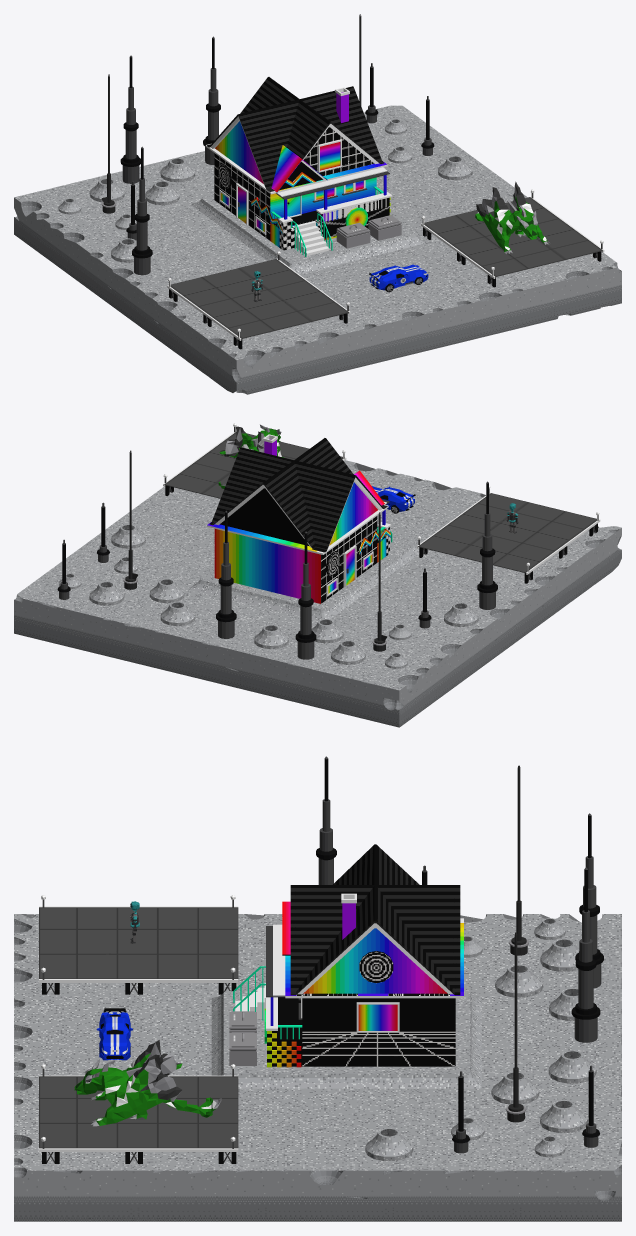
The picture shows the model from 3 angles, top to bottom: view 1: azimuth 30°, elevation 25°; view 2: azimuth 150°, elevation 25°; view 3: azimuth 270°, elevation 25°; orthographic projection. The views are drawn at different scales.
Parts seen in each view (by area): view 1: Cube.027, Cube.1320, Cube.025, Cube.026, Cube.028, ANIMAL_DRAGON, Cylinder.020, Cylinder.021, VEHICLES_RACING_CAR, Cylinder.017, Cube.029, Cube.030 (+4 smaller); view 2: Cube.027, Cube.1320, Cube.025, Cube.028, Cube.026, Cylinder.020, Cylinder.021, Cylinder.017, ANIMAL_DRAGON, VEHICLES_RACING_CAR, Cylinder.031, Cylinder.028 (+8 smaller); view 3: Cube.027, Cube.1320, Cube.025, Cube.026, Cube.028, ANIMAL_DRAGON, Cylinder.017, VEHICLES_RACING_CAR, Cylinder.020, Cylinder.021, Cylinder.033, Cylinder.031 (+10 smaller).
Part boxes in pixels (bbox=[...]): Cube.027: bbox=[14, 105, 621, 394]; Cube.1320: bbox=[205, 77, 392, 256]; Cube.025: bbox=[167, 251, 350, 349]; Cube.026: bbox=[421, 189, 604, 287]; Cube.028: bbox=[191, 195, 424, 274]; ANIMAL_DRAGON: bbox=[475, 181, 550, 253]; Cylinder.020: bbox=[120, 55, 140, 183]; Cylinder.021: bbox=[132, 146, 152, 275]; VEHICLES_RACING_CAR: bbox=[369, 264, 428, 292]; Cylinder.017: bbox=[203, 36, 220, 164]; Cube.029: bbox=[336, 222, 370, 248]; Cube.030: bbox=[368, 215, 401, 240]; Cube.027: bbox=[14, 460, 621, 727]; Cube.1320: bbox=[207, 434, 392, 603]; Cube.025: bbox=[417, 485, 600, 583]; Cube.028: bbox=[190, 538, 419, 620]; Cube.026: bbox=[163, 423, 346, 498]; Cylinder.020: bbox=[295, 531, 316, 659]; Cylinder.021: bbox=[477, 481, 497, 609]; Cylinder.017: bbox=[216, 510, 236, 638]; ANIMAL_DRAGON: bbox=[218, 424, 284, 488]; VEHICLES_RACING_CAR: bbox=[372, 486, 415, 513]; Cylinder.031: bbox=[89, 581, 124, 605]; Cylinder.028: bbox=[331, 640, 365, 664]; Cube.027: bbox=[14, 914, 621, 1221]; Cube.1320: bbox=[233, 844, 463, 1067]; Cube.025: bbox=[39, 895, 238, 994]; Cube.026: bbox=[39, 1064, 238, 1163]; Cube.028: bbox=[211, 991, 481, 1088]; ANIMAL_DRAGON: bbox=[74, 1040, 221, 1126]; Cylinder.017: bbox=[571, 867, 600, 1042]; VEHICLES_RACING_CAR: bbox=[96, 1008, 132, 1060]; Cylinder.020: bbox=[575, 813, 603, 988]; Cylinder.021: bbox=[316, 756, 336, 884]; Cylinder.033: bbox=[365, 1128, 413, 1160]; Cylinder.031: bbox=[540, 1100, 587, 1132].
Size of the model in its own units: 4000 by 1799 by 4000.
Materials: 35 (6 with a texture image).
